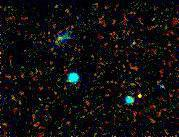star: (127, 80, 157, 110)
